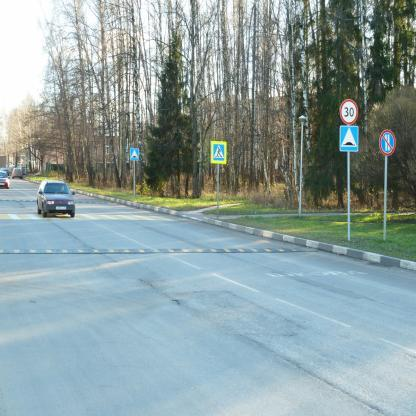road_sign: (339, 125, 359, 152), (339, 99, 358, 124), (379, 129, 396, 156), (210, 141, 227, 164), (129, 147, 140, 161)
